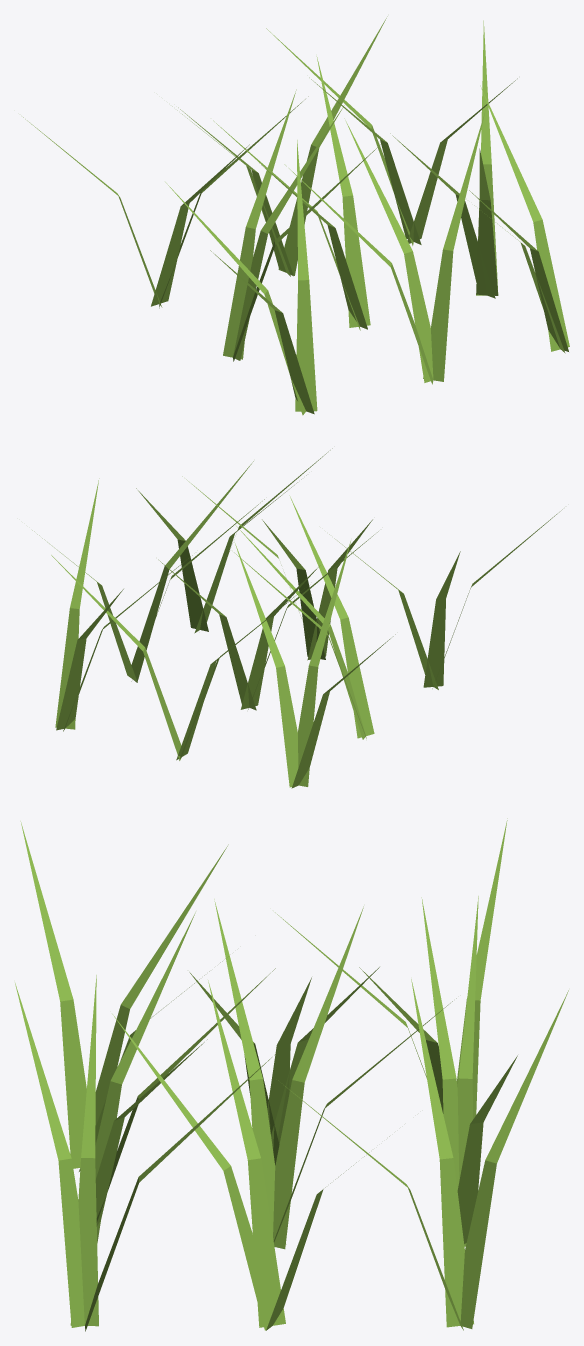
Rendered from riz.glb.
3 renders of one model, top to bottom at view 1: azimuth 30°, elevation 25°; view 2: azimuth 150°, elevation 25°; view 3: azimuth 270°, elevation 25°, orthographic. The views are drawn at different scales.
Parts seen in each view (by area): view 1: riz; view 2: riz; view 3: riz.
Part boxes in pixels (left/top/right/bottom): riz: left=23, top=16, right=569, bottom=415; riz: left=32, top=448, right=562, bottom=788; riz: left=15, top=818, right=568, bottom=1331.
Bounding box in the file's own units: 1.15 × 0.525 × 0.977.
Materials: 1 (1 with a texture image).
